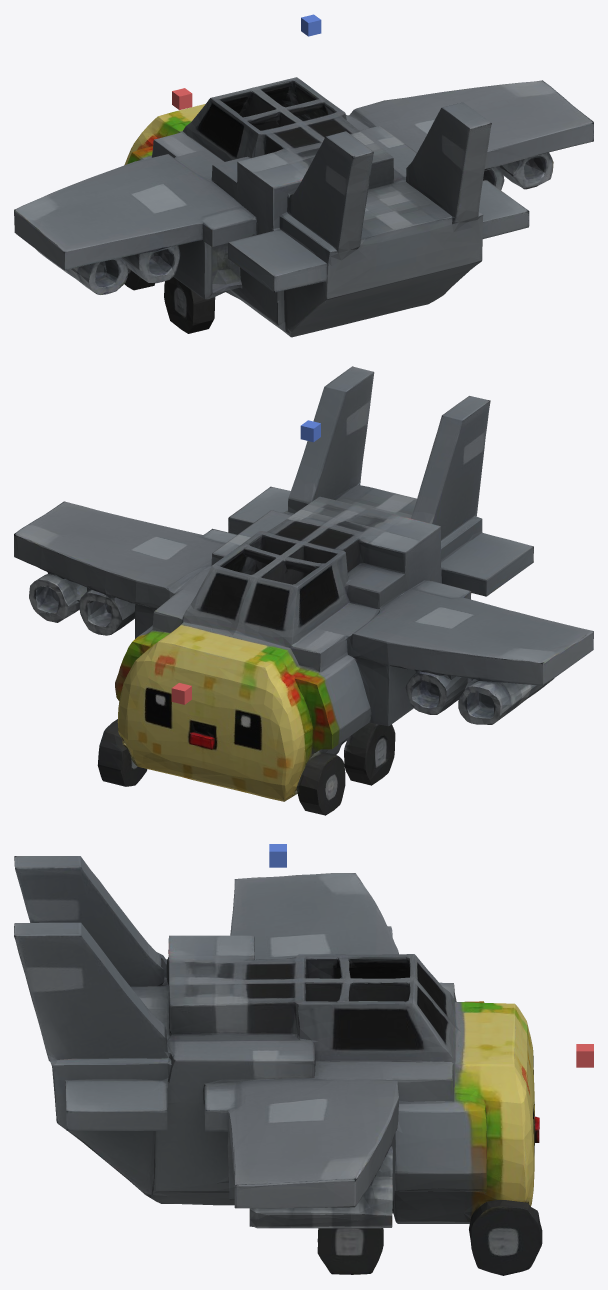
The model's file is TacoplanoBombardino.glb.
3 renders of one model, top to bottom at view 1: azimuth 30°, elevation 25°; view 2: azimuth 150°, elevation 25°; view 3: azimuth 270°, elevation 25°, orthographic. The views are drawn at different scales.
Visible parts, largest first — view 1: TacoplanoBombardino_Body, TacoplanoBombardino_Leg2; view 2: TacoplanoBombardino_Body, TacoplanoBombardino_Leg2; view 3: TacoplanoBombardino_Body, TacoplanoBombardino_Leg1.
Part boxes in pixels (x1,y1,x2,y2): TacoplanoBombardino_Body: [14, 77, 593, 337]; TacoplanoBombardino_Leg2: [164, 291, 214, 333]; TacoplanoBombardino_Body: [14, 366, 593, 815]; TacoplanoBombardino_Leg2: [344, 740, 394, 785]; TacoplanoBombardino_Body: [14, 856, 542, 1275]; TacoplanoBombardino_Leg1: [317, 1228, 383, 1274].
Size of the model in its own units: 10.24 by 5.72 by 8.15.
1 material, 1 textured.
